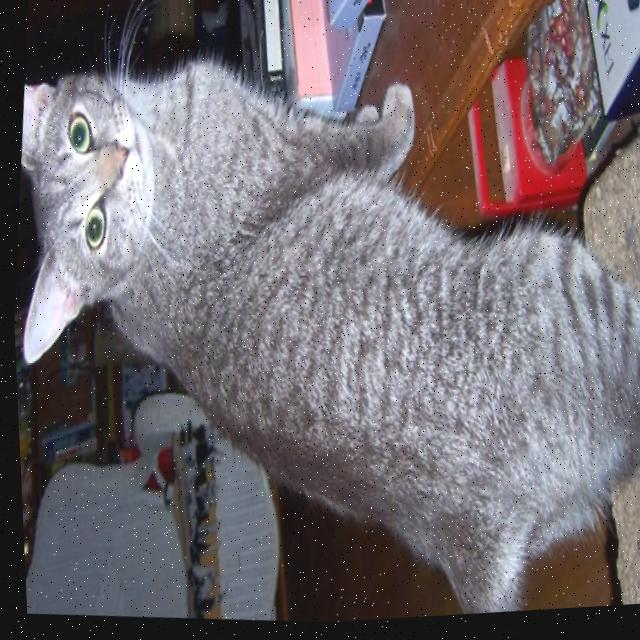American Bobtail: (2, 17, 640, 640)
